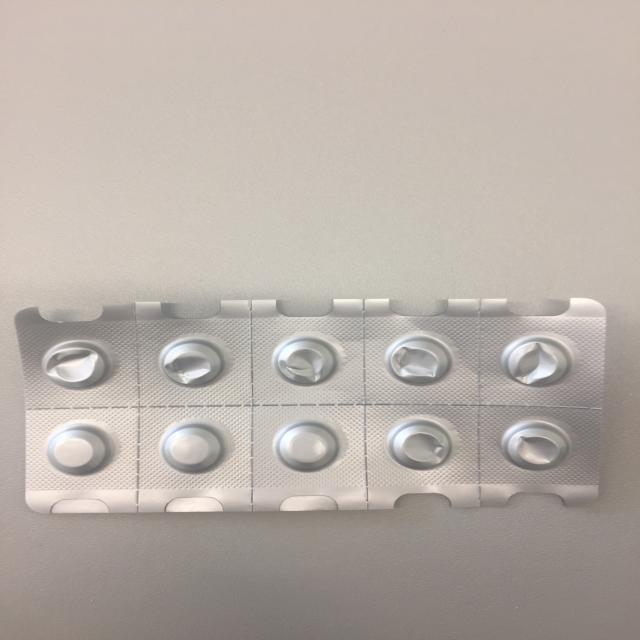Empty: (492, 332, 579, 392), (263, 330, 349, 390), (382, 416, 465, 478), (380, 328, 458, 390), (148, 337, 235, 390), (496, 418, 575, 476), (34, 339, 115, 392)
Pill: (267, 418, 346, 478), (157, 419, 231, 478), (41, 422, 115, 481)
